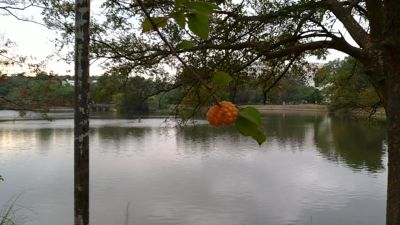eggs: (205, 100, 241, 127)
